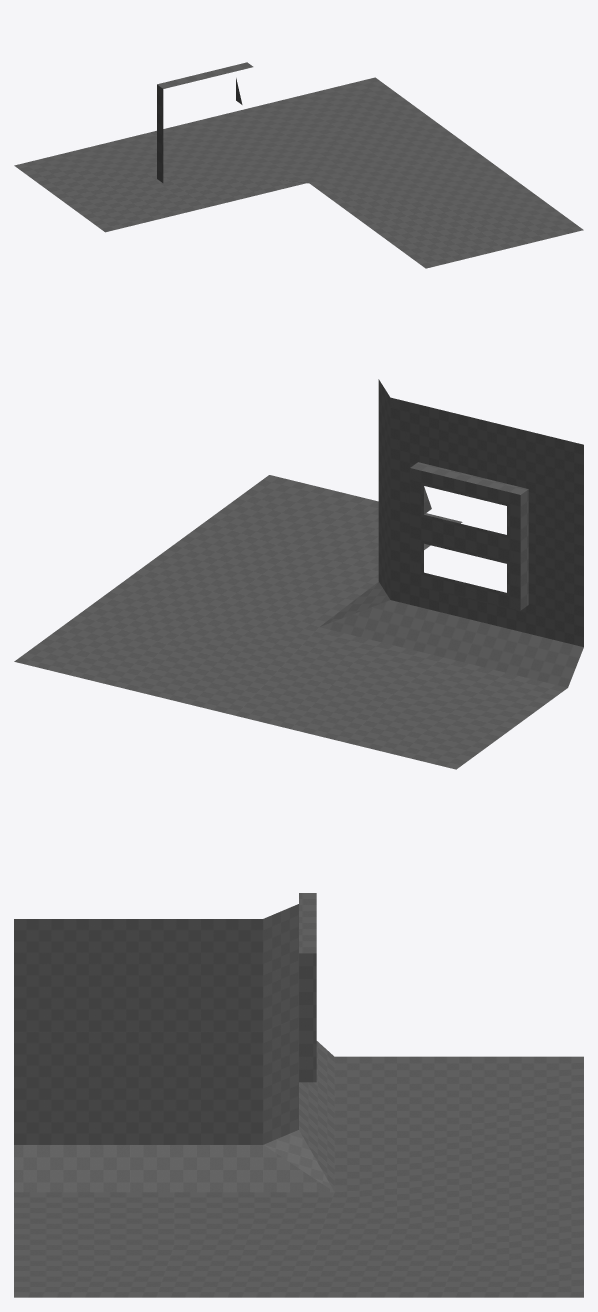
3 views of the same model, one above another, from view 1: azimuth 30°, elevation 25°; view 2: azimuth 150°, elevation 25°; view 3: azimuth 270°, elevation 25° (orthographic). The views are drawn at different scales.
Visible parts, largest first — view 1: CubeUpBackRight3V1; view 2: CubeUpBackRight3V1; view 3: CubeUpBackRight3V1.
Part boxes in pixels (x1=…): CubeUpBackRight3V1: x1=14, y1=62, x2=583, y2=268; CubeUpBackRight3V1: x1=14, y1=379, x2=583, y2=769; CubeUpBackRight3V1: x1=14, y1=893, x2=583, y2=1297.
Size of the model in its own units: 4 by 2 by 4.
1 material, 1 textured.
